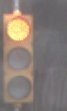Red: (3, 8, 33, 109)
